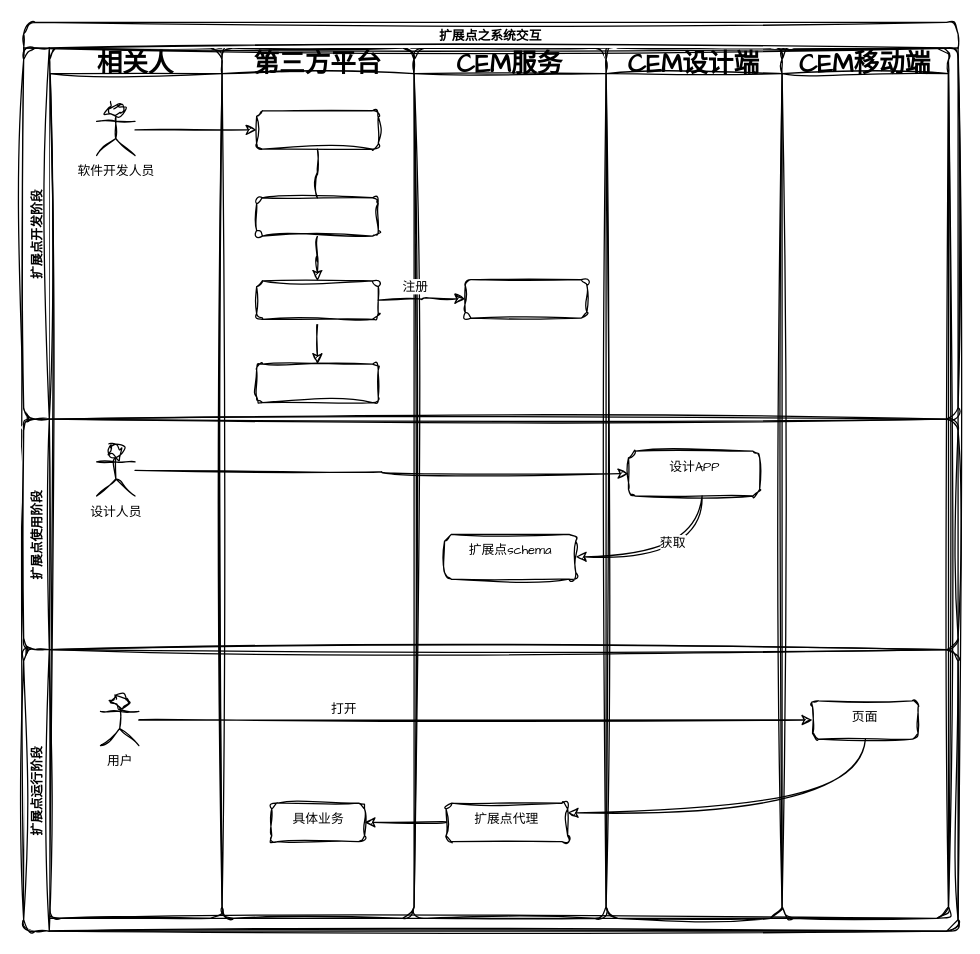
This 980x954 diagram has some shape labels left out. The shapes that lost their labels are listed below. From the top down, each one's box as (x1, y1, x2, y2) in pixels, then its label:
(255, 109, 378, 149): 编写回调接口
(255, 196, 378, 236): 编写业务逻辑
(255, 280, 378, 319): 编写扩展点定义
(464, 278, 587, 318): 扩展点注册
(255, 363, 378, 403): 编写固定接口3个
